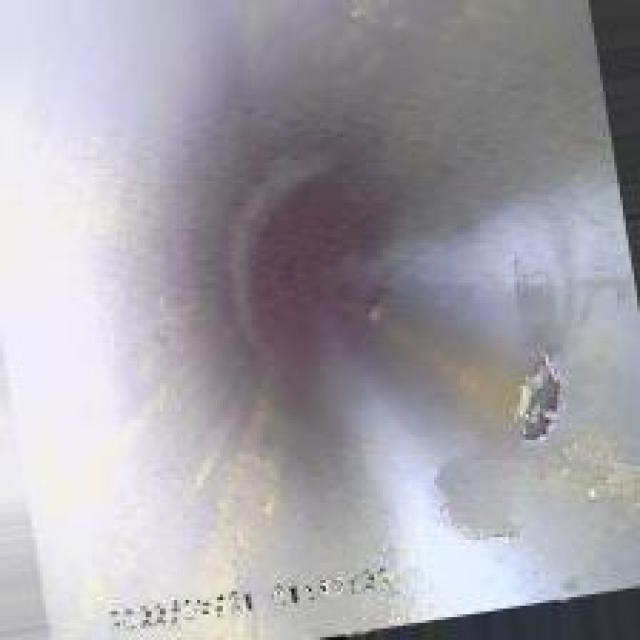ferrule: (497, 351, 580, 443)
